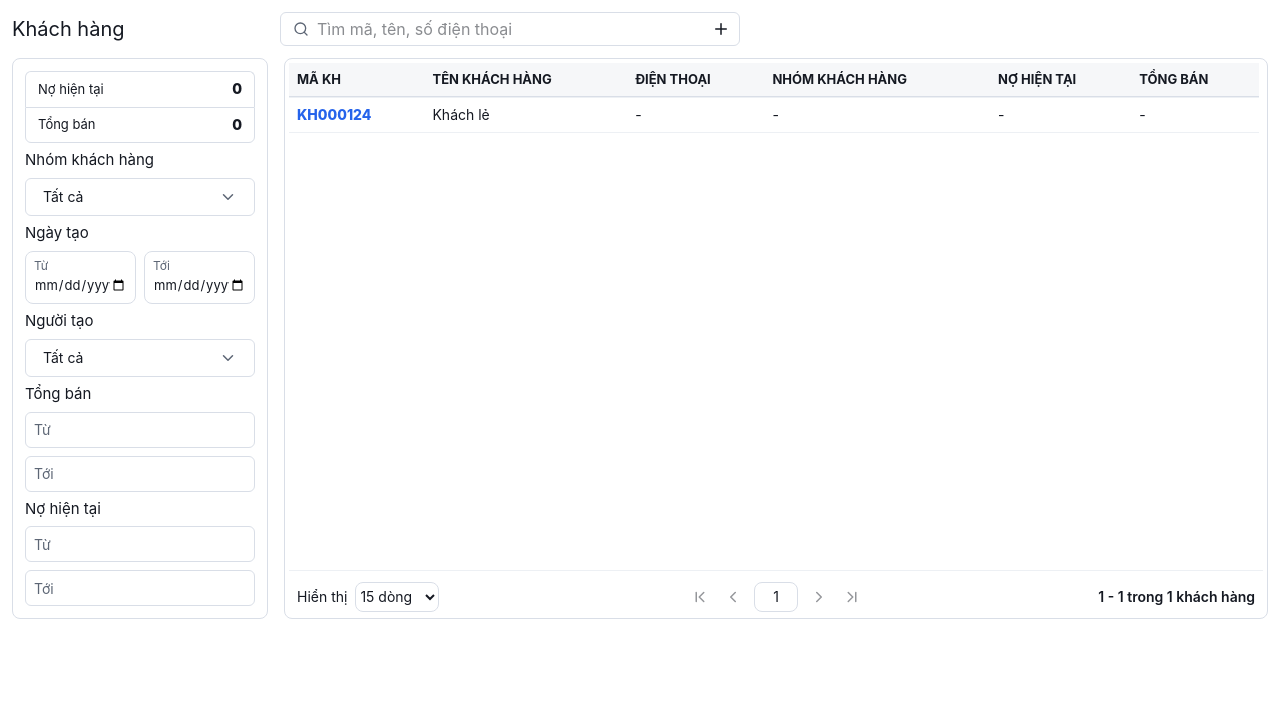
Test: shows common price list when the customer has no group
Click the button "KH000124". click: [334, 115]
box: [297,106,371,124]
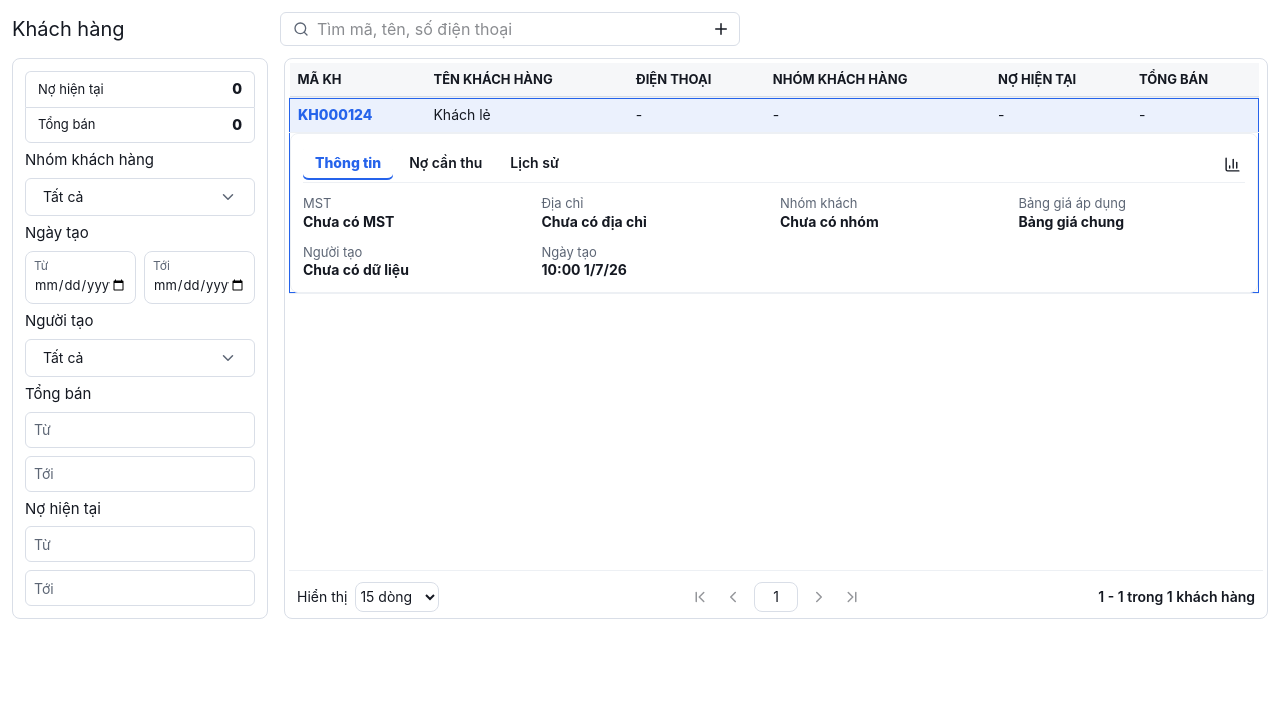
Check: the text "Bảng giá chung" is shown, box [1018,213,1124,230]
